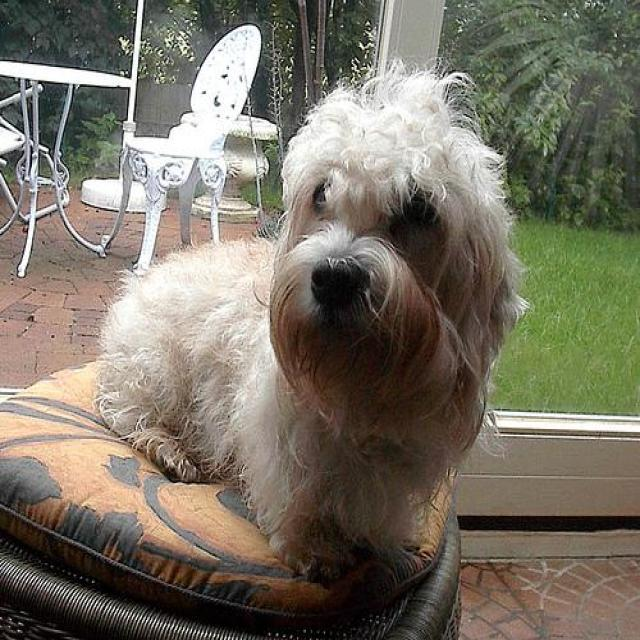dandie_dinmont: (96, 57, 530, 586)
